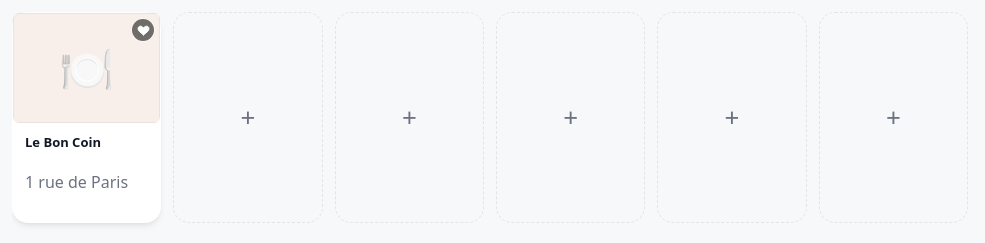
Test: FavorisSlots › retire un favori via toggle au clic sur le bouton de retrait
expect the heading "Le Bon Coin" is shown: met, box x1=25 y1=134 x2=101 y2=152
Click the button named "Retirer Le Bon Coin des favoris".
click(143, 30)  # box x1=132 y1=19 x2=154 y2=41
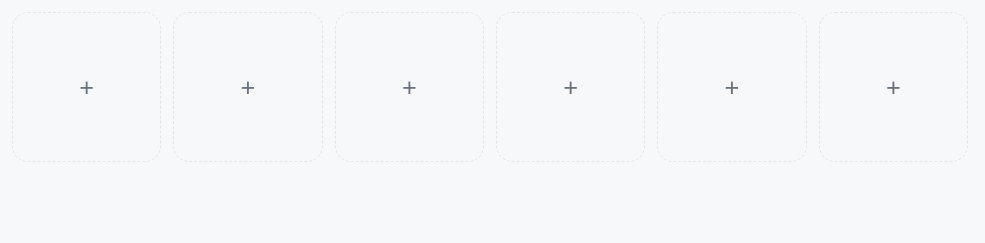
expect the link "Le Bon Coin" is gone: met
expect the number of buttons with class "favoris-slot--empty" is 6: met, box x1=12 y1=12 x2=161 y2=162; x1=173 y1=12 x2=323 y2=162; x1=335 y1=12 x2=484 y2=162; x1=496 y1=12 x2=645 y2=162; x1=657 y1=12 x2=807 y2=162; x1=819 y1=12 x2=968 y2=162
